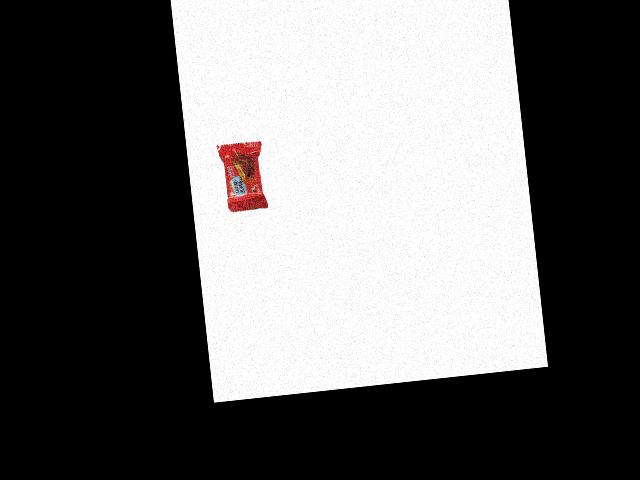chocolate: (212, 140, 268, 219)
